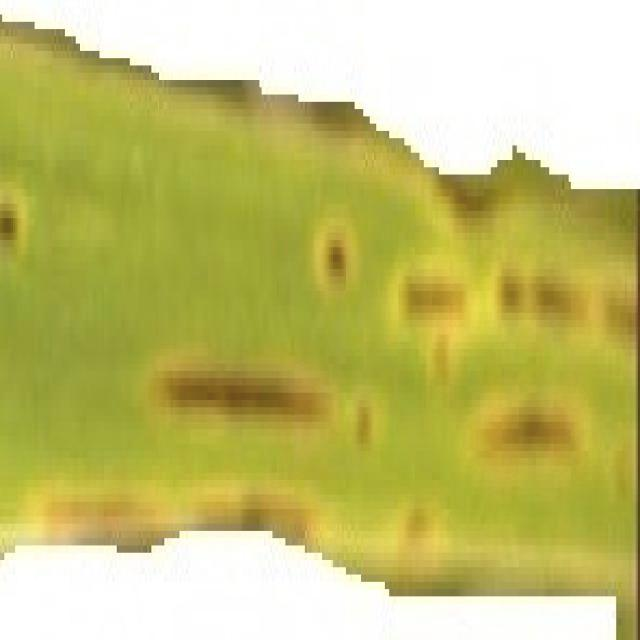Brownspot: (155, 367, 328, 421), (44, 497, 166, 550), (198, 492, 312, 543), (484, 404, 575, 454), (241, 493, 311, 543), (438, 174, 492, 228), (403, 276, 465, 317), (533, 276, 584, 322), (604, 292, 637, 339), (324, 234, 346, 286), (499, 271, 523, 313), (433, 333, 450, 381), (0, 203, 17, 249), (356, 403, 372, 446)
